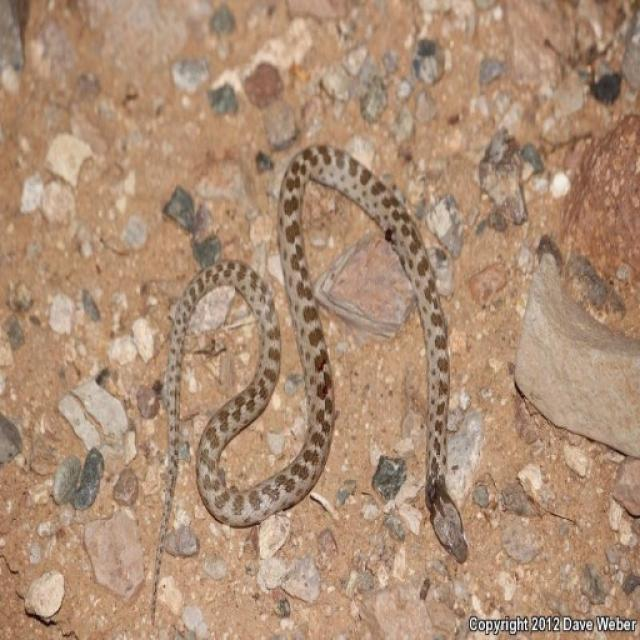snake: (129, 132, 498, 613)
